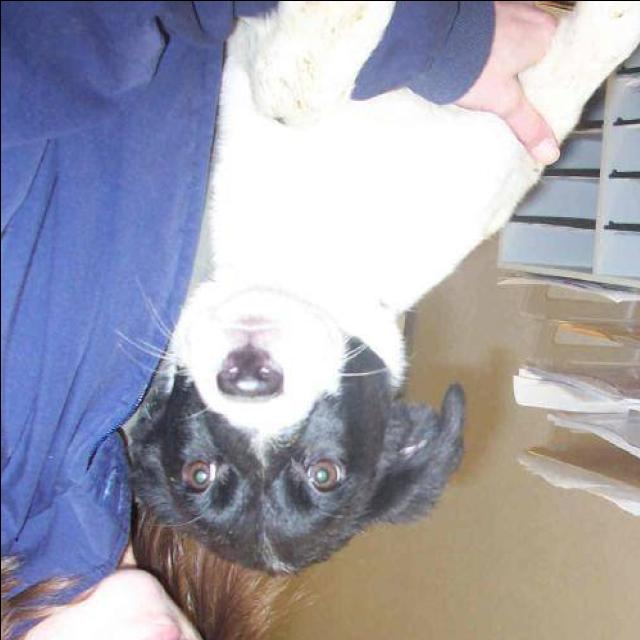dog: (116, 0, 630, 592)
